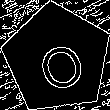O_NW: (27, 26, 87, 91)
